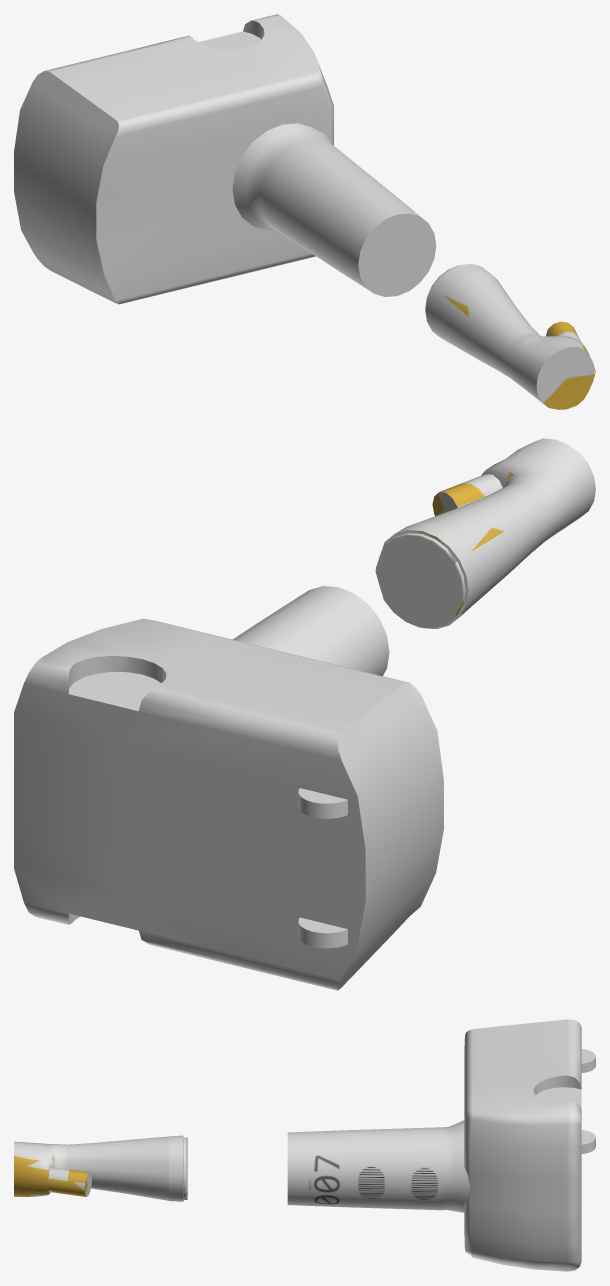
3 views of the same model, one above another, from view 1: azimuth 30°, elevation 25°; view 2: azimuth 150°, elevation 25°; view 3: azimuth 270°, elevation 25° (orthographic). The views are drawn at different scales.
Visible parts, largest first — view 1: link_base whole_robot; view 2: link_base whole_robot; view 3: link_base whole_robot.
Part boxes in pixels (left/top/right/bottom): link_base whole_robot: left=14, top=14, right=595, bottom=409; link_base whole_robot: left=14, top=438, right=595, bottom=990; link_base whole_robot: left=14, top=1019, right=595, bottom=1271.
Bounding box in the file's own units: 0.54 × 0.3776 × 1.24.
Materials: 1 (1 with a texture image).
